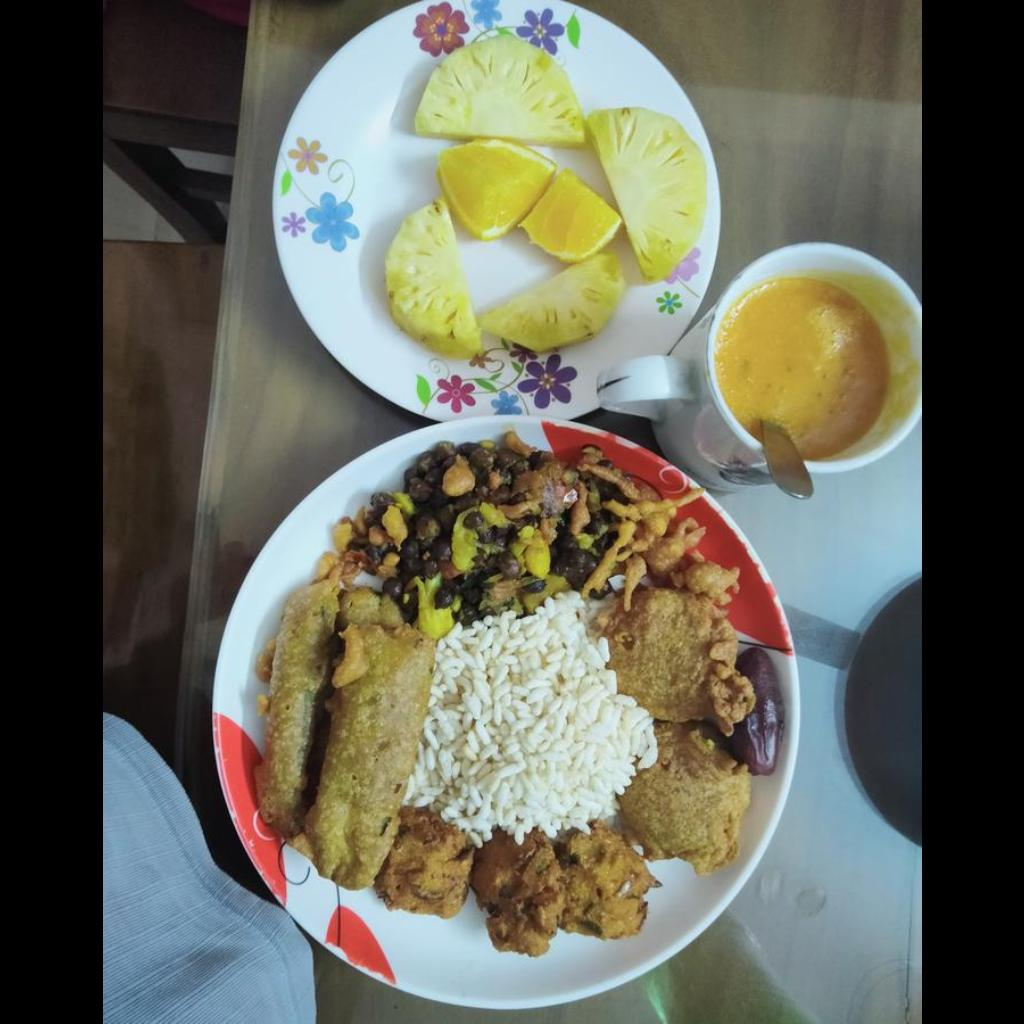beguni: (250, 587, 436, 892)
chola: (327, 445, 636, 614)
chop-alu: (607, 591, 748, 875)
dates: (720, 646, 784, 775)
juice: (713, 276, 889, 460)
orange: (437, 150, 616, 254)
peyaju: (379, 812, 642, 954)
pineapple: (377, 39, 718, 356)
puffed-rice: (423, 605, 645, 823)
